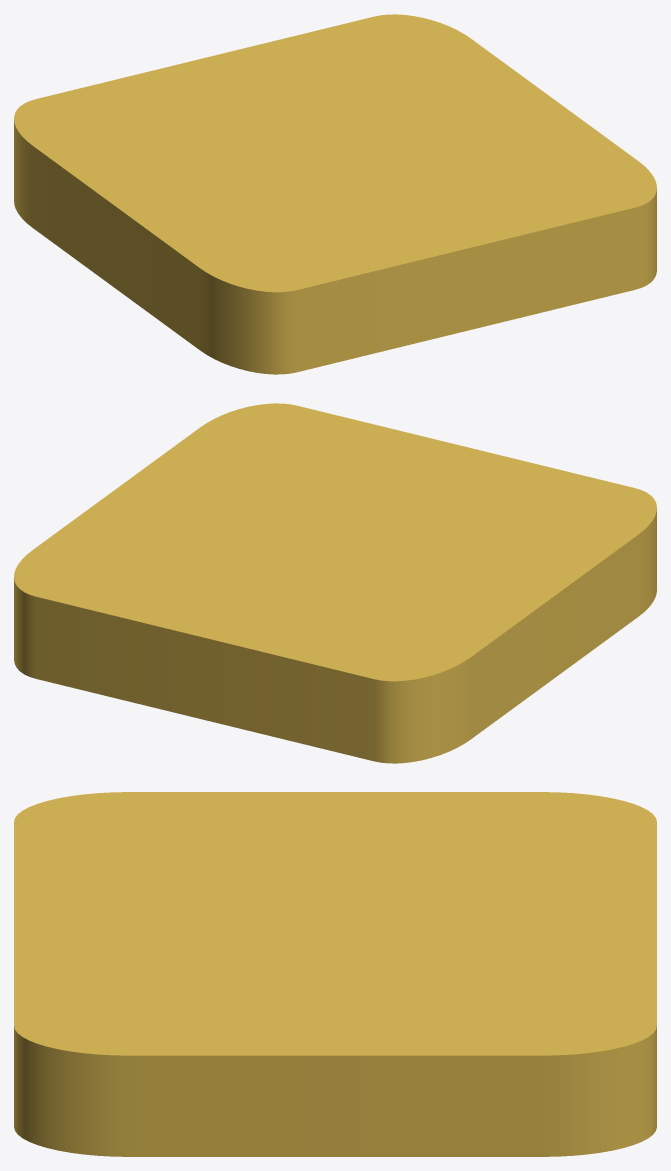
File: original-107.obj
The picture shows the model from 3 angles, top to bottom: view 1: azimuth 30°, elevation 25°; view 2: azimuth 150°, elevation 25°; view 3: azimuth 270°, elevation 25°; orthographic projection. The views are drawn at different scales.
Visible parts, largest first — view 1: mesh104/mesh104-geometry#mesh104-geometry; view 2: mesh104/mesh104-geometry#mesh104-geometry; view 3: mesh104/mesh104-geometry#mesh104-geometry.
Boxes of the visible parts, left/top/right/bottom form: mesh104/mesh104-geometry#mesh104-geometry: left=14, top=14, right=656, bottom=374; mesh104/mesh104-geometry#mesh104-geometry: left=14, top=403, right=656, bottom=763; mesh104/mesh104-geometry#mesh104-geometry: left=14, top=792, right=656, bottom=1156.
Size of the model in its own units: 0.0623 by 0.0112 by 0.0642.
